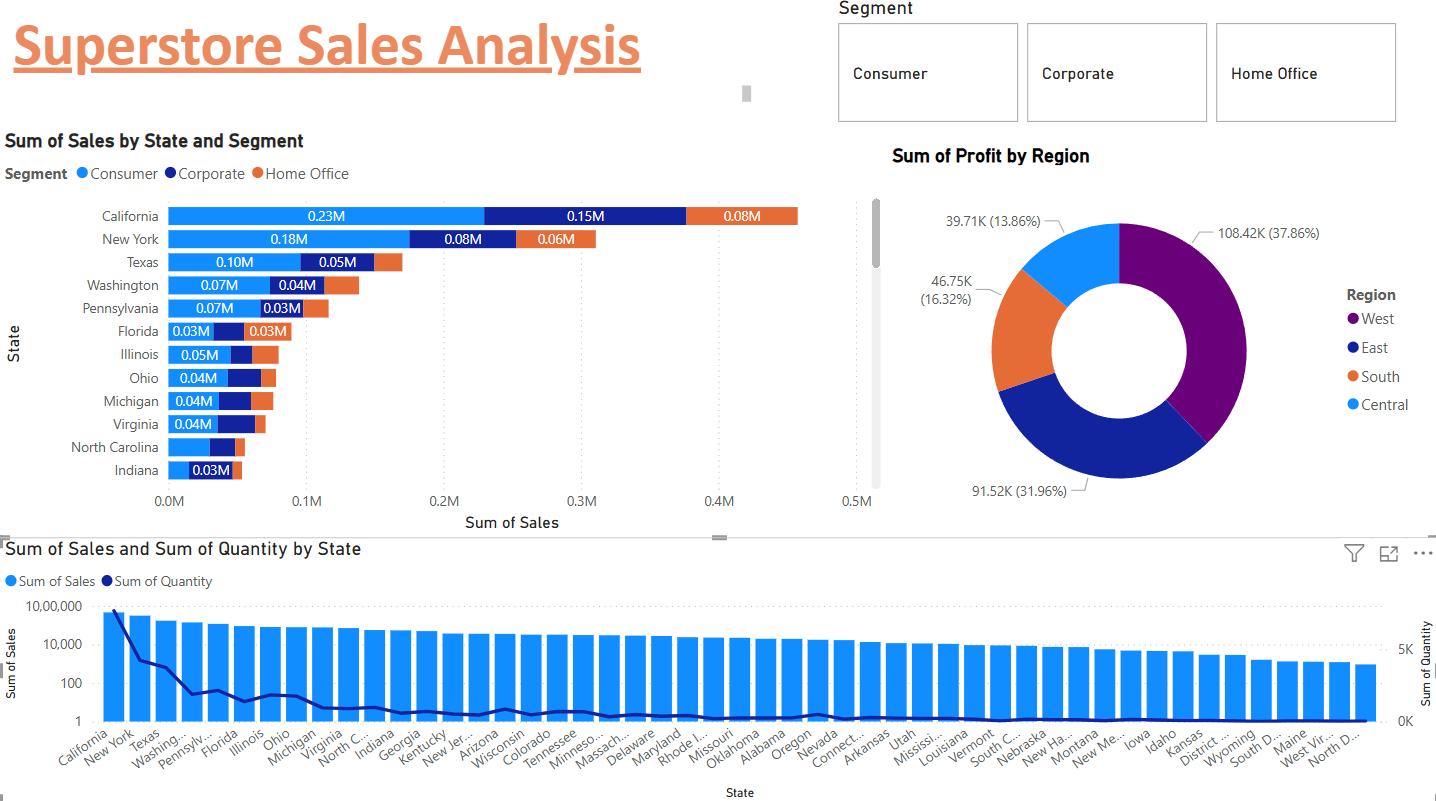

The dashboard page shown, as its layout file describes it:
{"tool":"powerbi","page":{"name":"Page 1","canvas":[1280,720],"ordinal":0},"visuals":[{"type":"barChart","fields":{"Category":["SampleSuperstore.State"],"Y":["Sum(SampleSuperstore.Sales)"],"Series":["SampleSuperstore.Segment"]},"box":[0,117.8,788.9,363.3],"z":0},{"type":"donutChart","fields":{"Category":["SampleSuperstore.Region"],"Y":["Sum(SampleSuperstore.Profit)"]},"box":[788.9,131.1,478.9,350],"z":1000},{"type":"lineStackedColumnComboChart","fields":{"Y":["Sum(SampleSuperstore.Sales)"],"Category":["SampleSuperstore.State"],"Y2":["Sum(SampleSuperstore.Quantity)"]},"box":[0,481.1,1280,238.9],"z":1001},{"type":"textbox","title":"Superstore Sales Analysis","box":[7.8,10,665.6,88.9],"z":1002},{"type":"advancedSlicerVisual","fields":{"Values":["SampleSuperstore.Segment"]},"box":[741.1,0,508.9,117.8],"z":1003}]}

Visuals, with their boxes in screenshot pixels (x1, y1, x2, y2), scaled from the page's 1280x720 canvas onto the 1436x801 screenshot:
barChart - SampleSuperstore.State x Sum(SampleSuperstore.Sales): left=0, top=131, right=885, bottom=535
donutChart - SampleSuperstore.Region x Sum(SampleSuperstore.Profit): left=885, top=146, right=1422, bottom=535
lineStackedColumnComboChart - Sum(SampleSuperstore.Sales) x SampleSuperstore.State: left=0, top=535, right=1435, bottom=800
"Superstore Sales Analysis" textbox: left=9, top=11, right=755, bottom=110
advancedSlicerVisual - SampleSuperstore.Segment: left=831, top=0, right=1402, bottom=131
